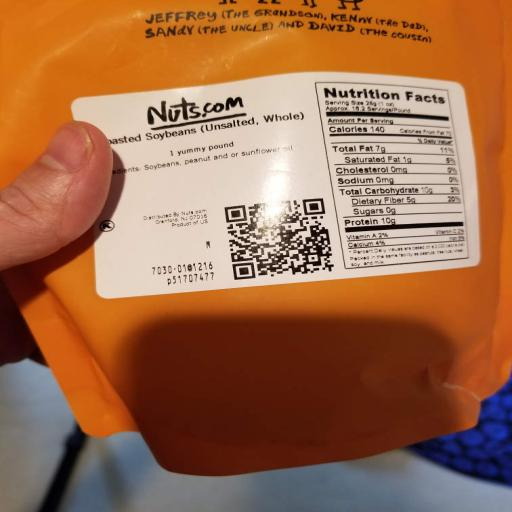QR_CODE: (215, 190, 343, 290)
